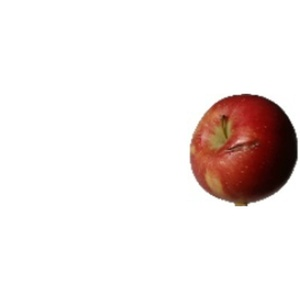maçã braeburn: (188, 90, 299, 202)
